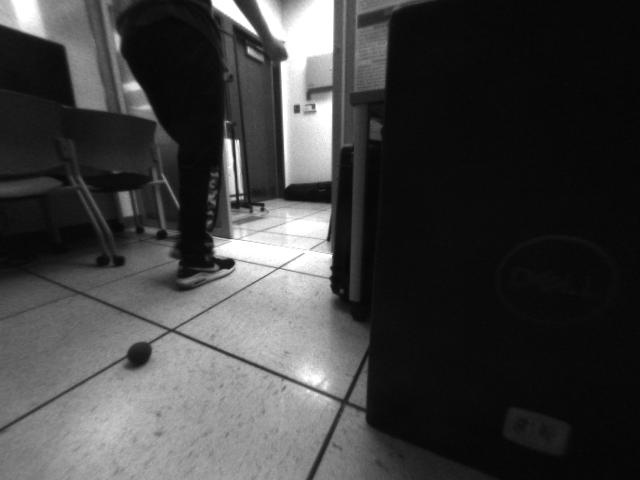dogtoy: (121, 332, 161, 374)
